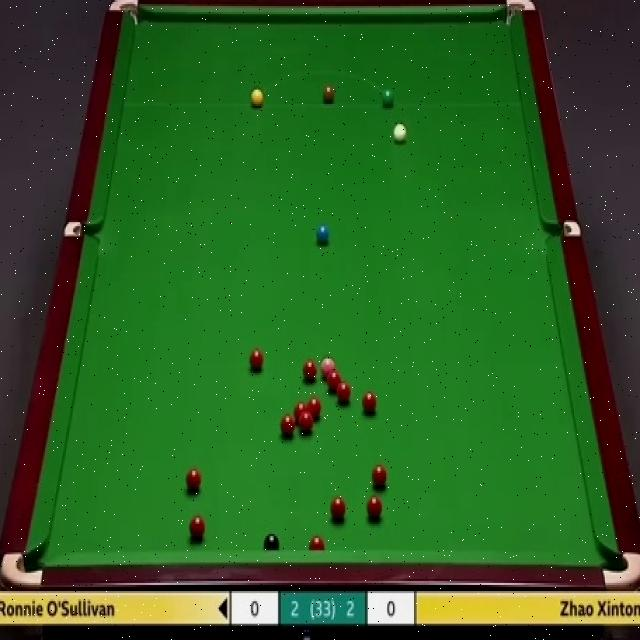black-ball: (264, 534, 281, 550)
blue-ball: (316, 225, 330, 243)
brown-ball: (323, 85, 335, 104)
green-ball: (380, 86, 396, 109)
pink-ball: (321, 357, 335, 378)
red-ball: (370, 465, 388, 490), (331, 495, 347, 522), (184, 468, 203, 489), (189, 517, 206, 540), (362, 390, 378, 414), (300, 361, 318, 382), (309, 395, 326, 417), (367, 496, 382, 520), (280, 413, 295, 437), (249, 346, 264, 369), (335, 380, 350, 403), (300, 411, 313, 432), (327, 370, 341, 388), (295, 402, 308, 421), (308, 536, 326, 549)
white-ball: (393, 122, 407, 143)
yellow-ball: (251, 88, 263, 108)
